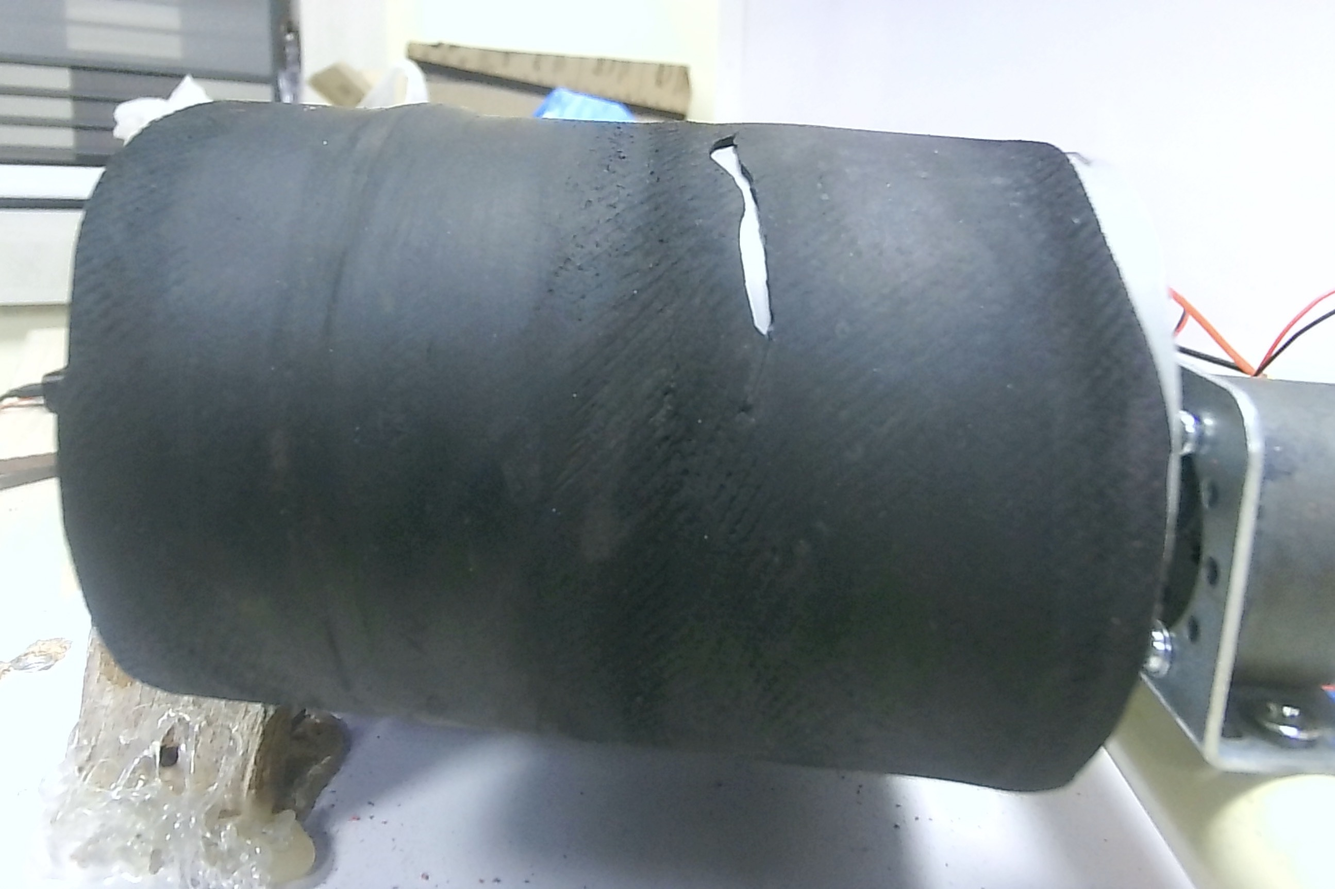hole: (1148, 630, 1171, 671)
tear: (697, 128, 788, 337)
